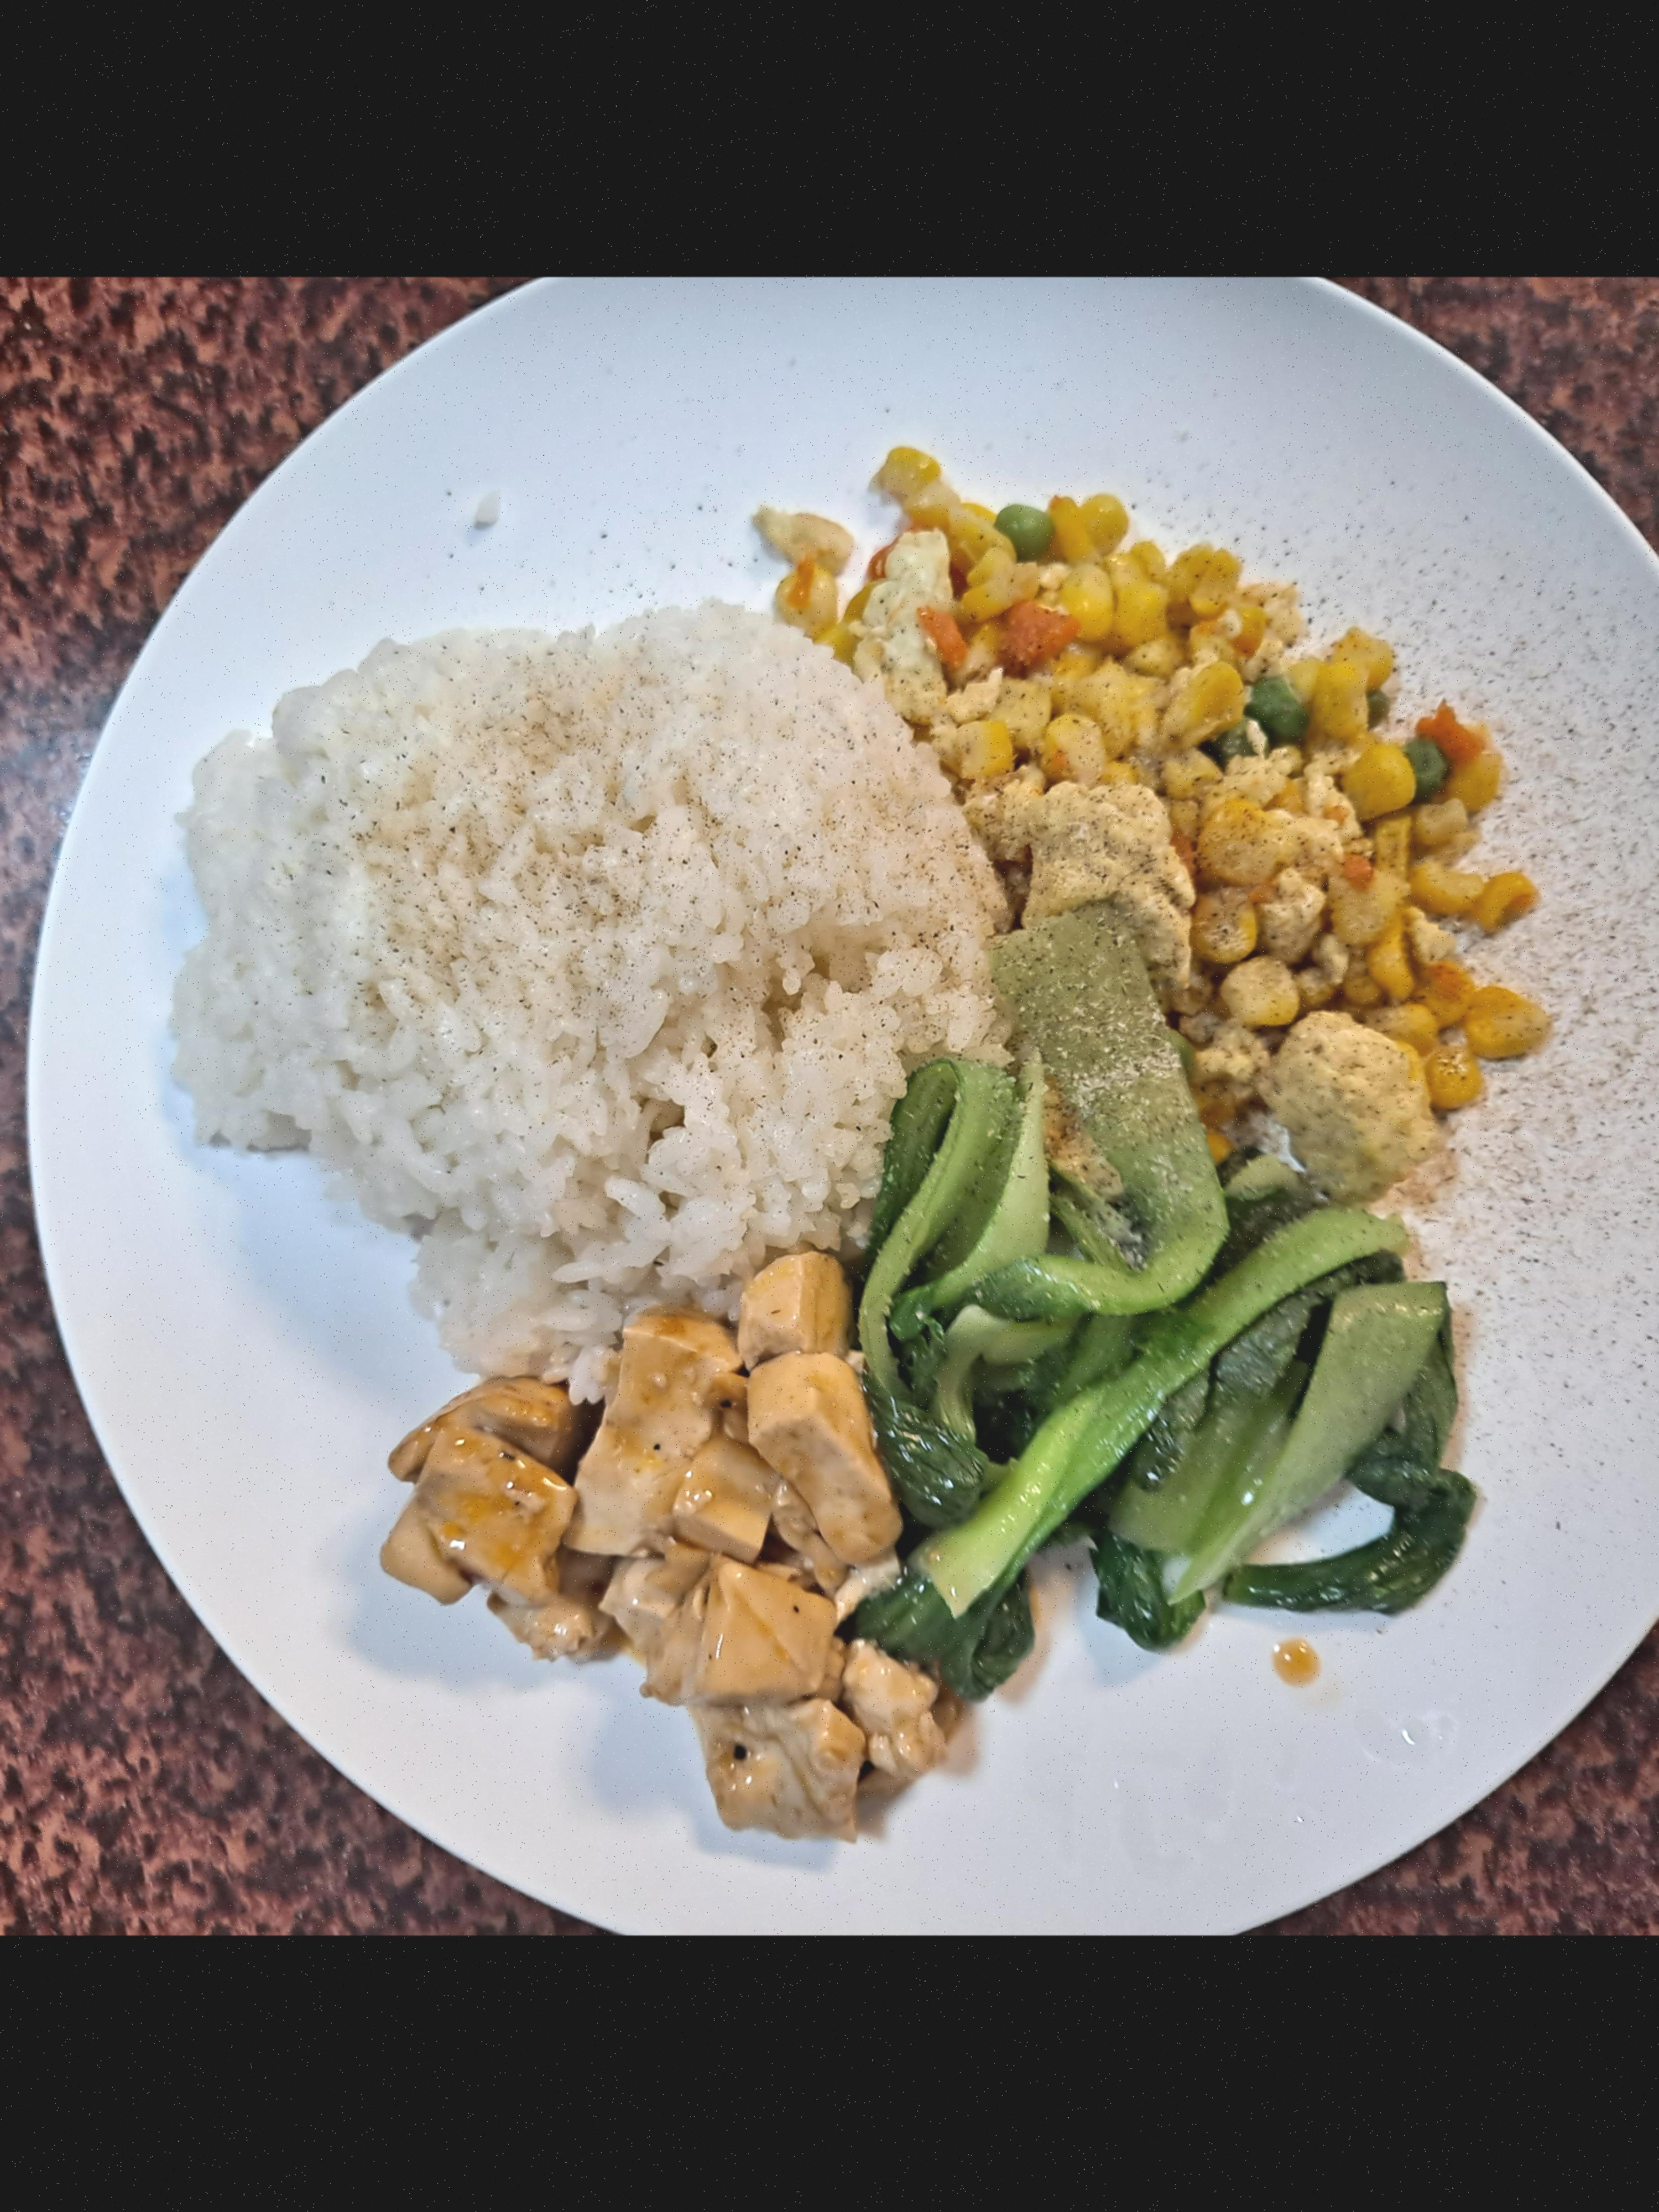big fried chicken leg: (0, 284, 573, 1116)
big herbal chicken leg: (0, 460, 375, 805)
braised fish fillet: (328, 374, 573, 725), (312, 678, 573, 988), (56, 812, 352, 1069)
